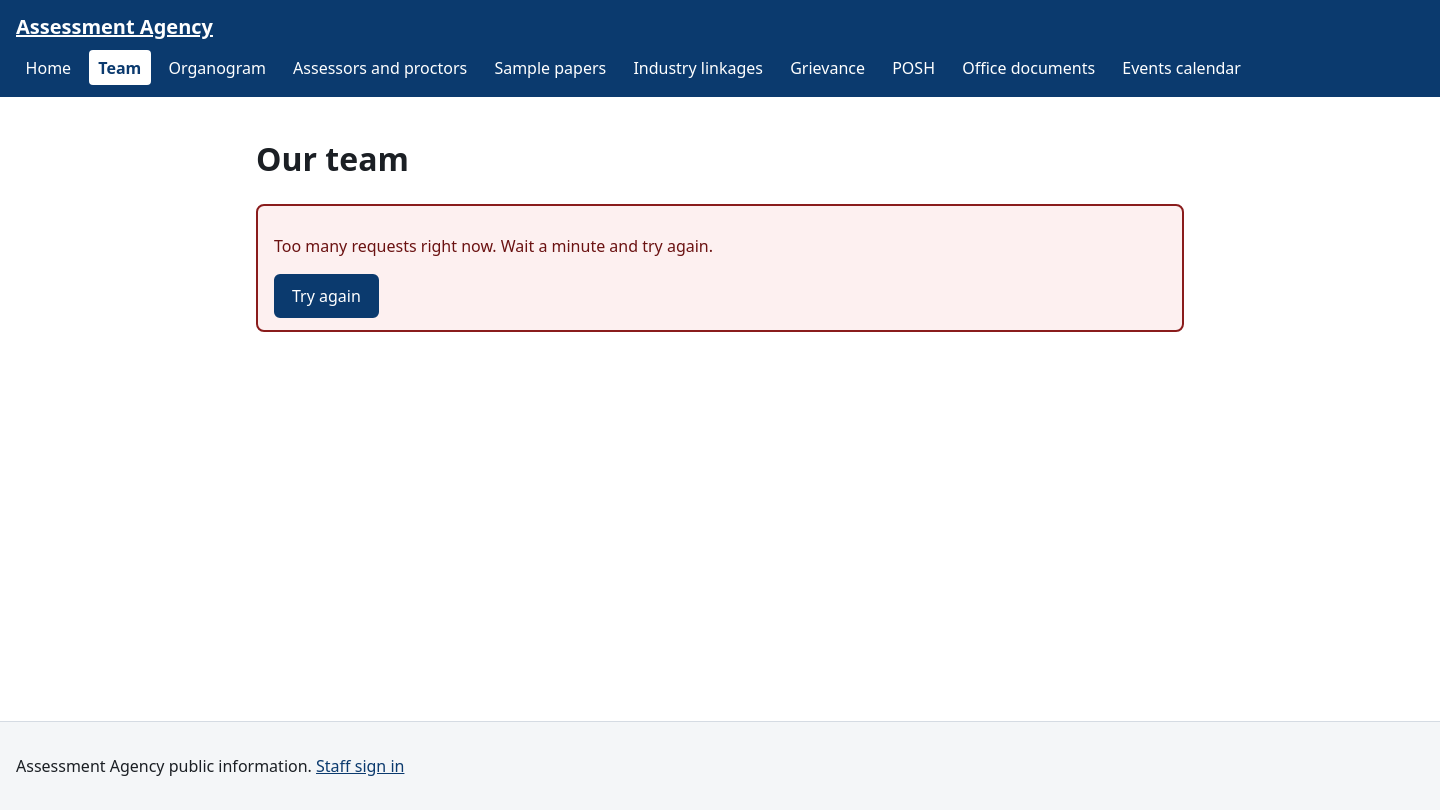
Test: shows a rate-limit message with retry
Expected: the message shows "Too many requests", [274, 235, 713, 257]
Click the button "Try again" at (326, 296), box [274, 274, 379, 318]
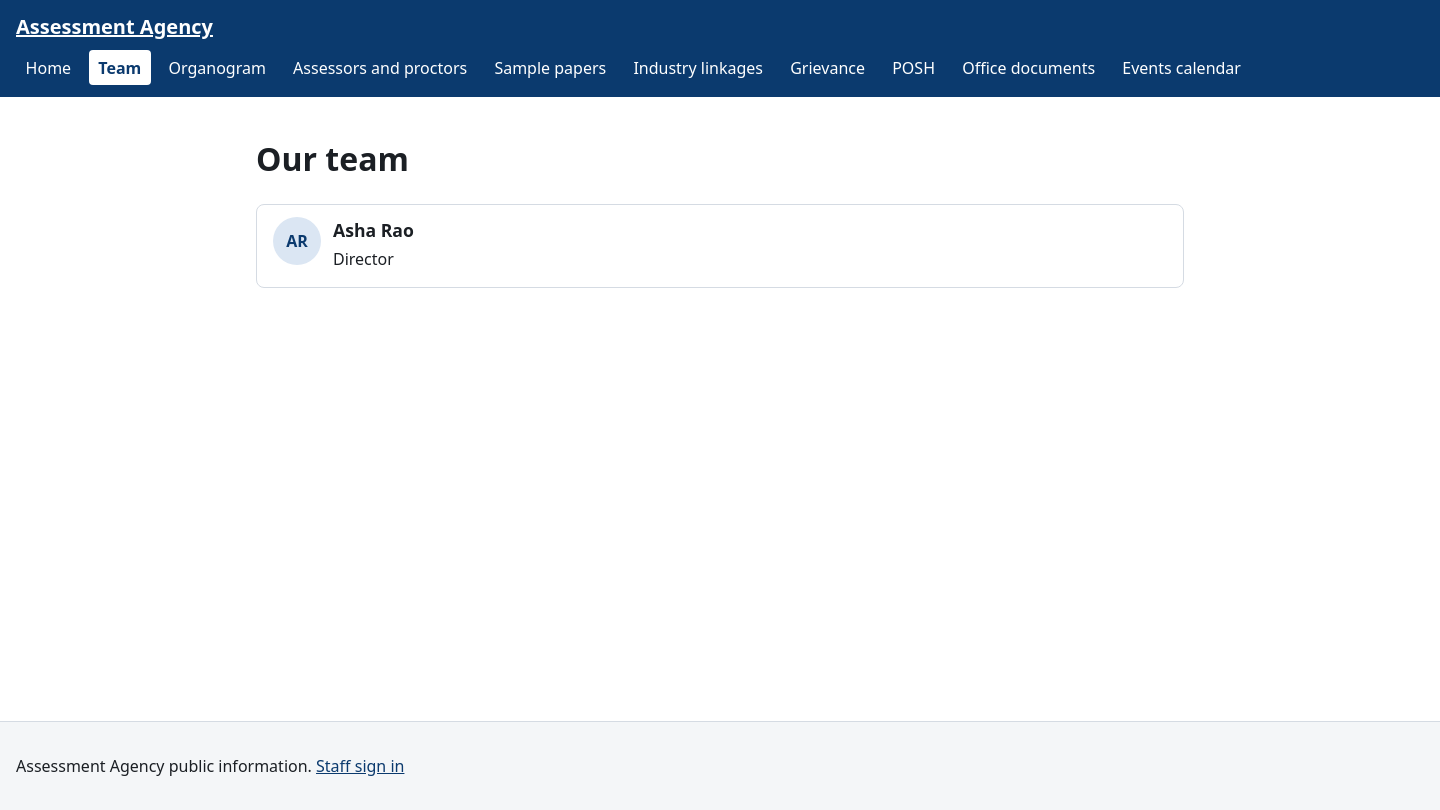
Now the heading "Asha Rao" is shown, box [333, 217, 414, 244]
